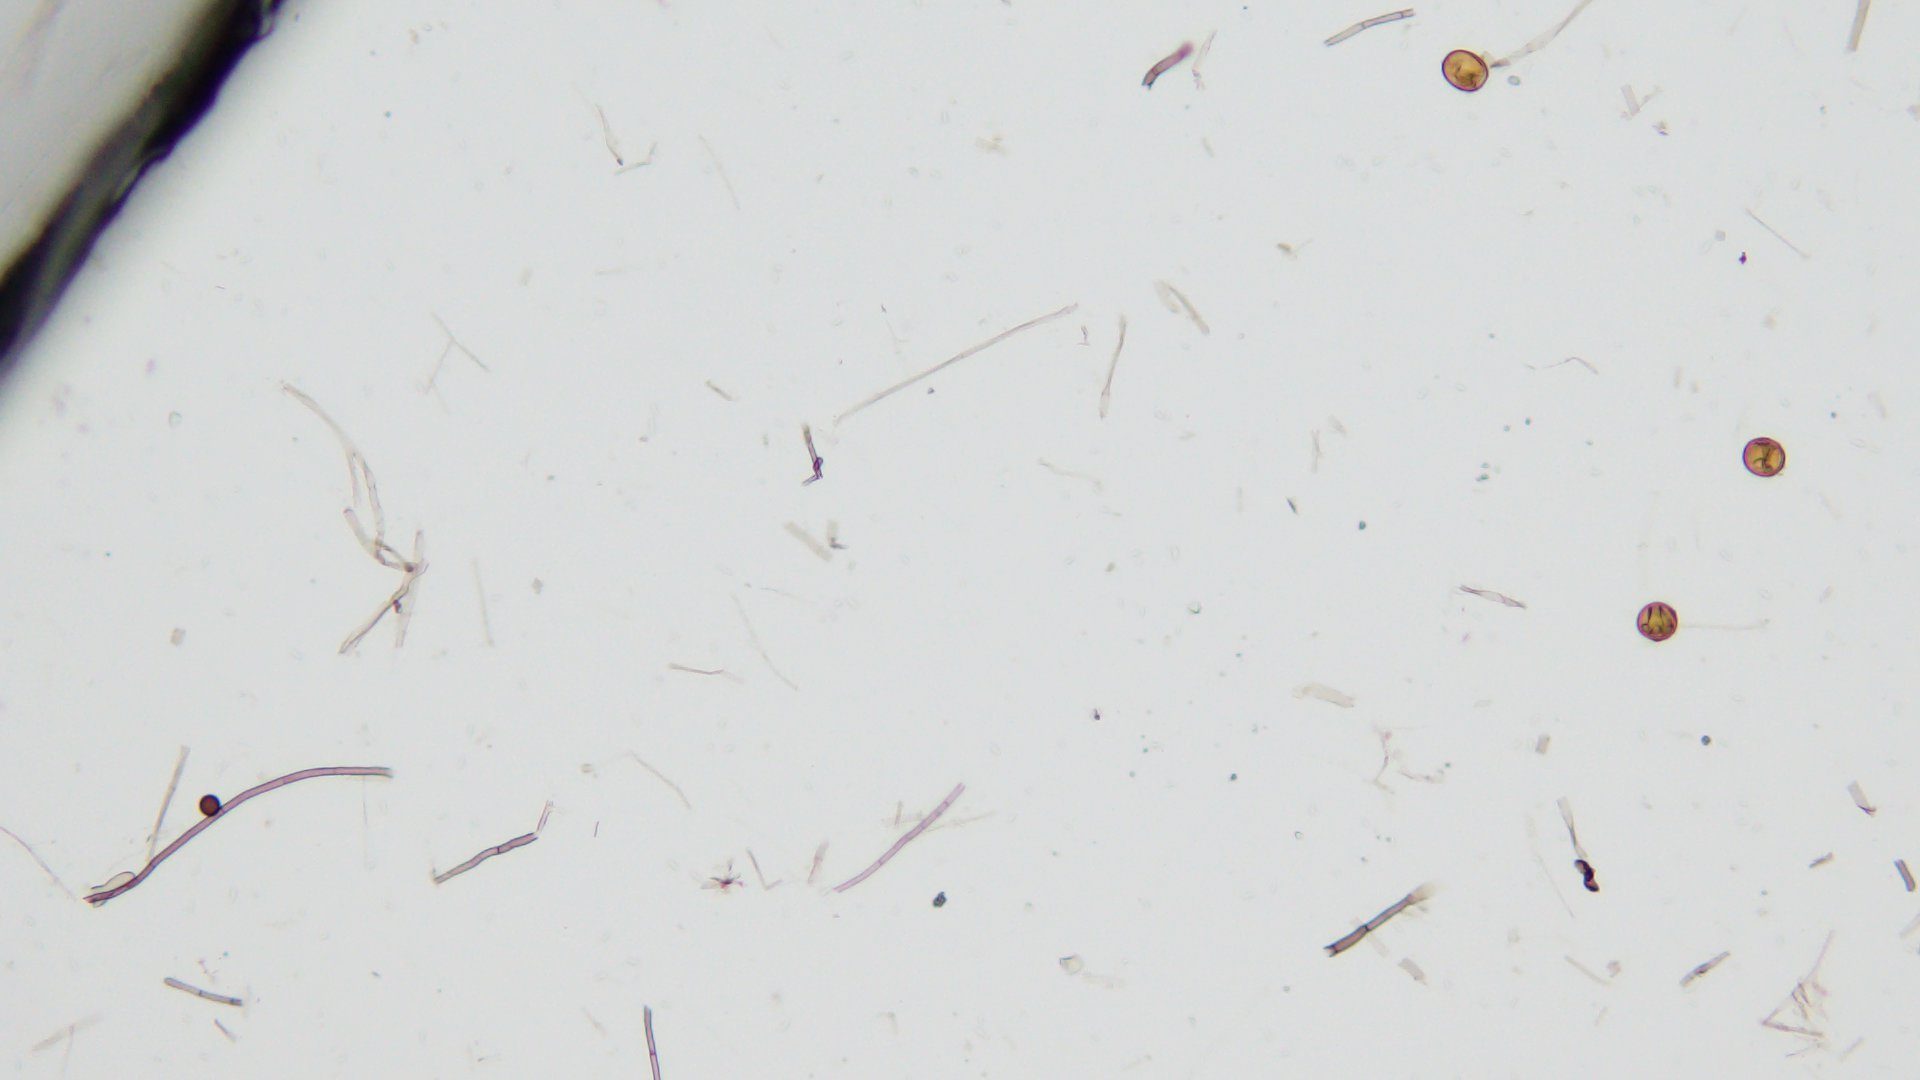shs_spore: (196, 795, 222, 818)
xb_spore: (1630, 603, 1681, 644), (1443, 51, 1490, 94), (1743, 436, 1785, 479)
